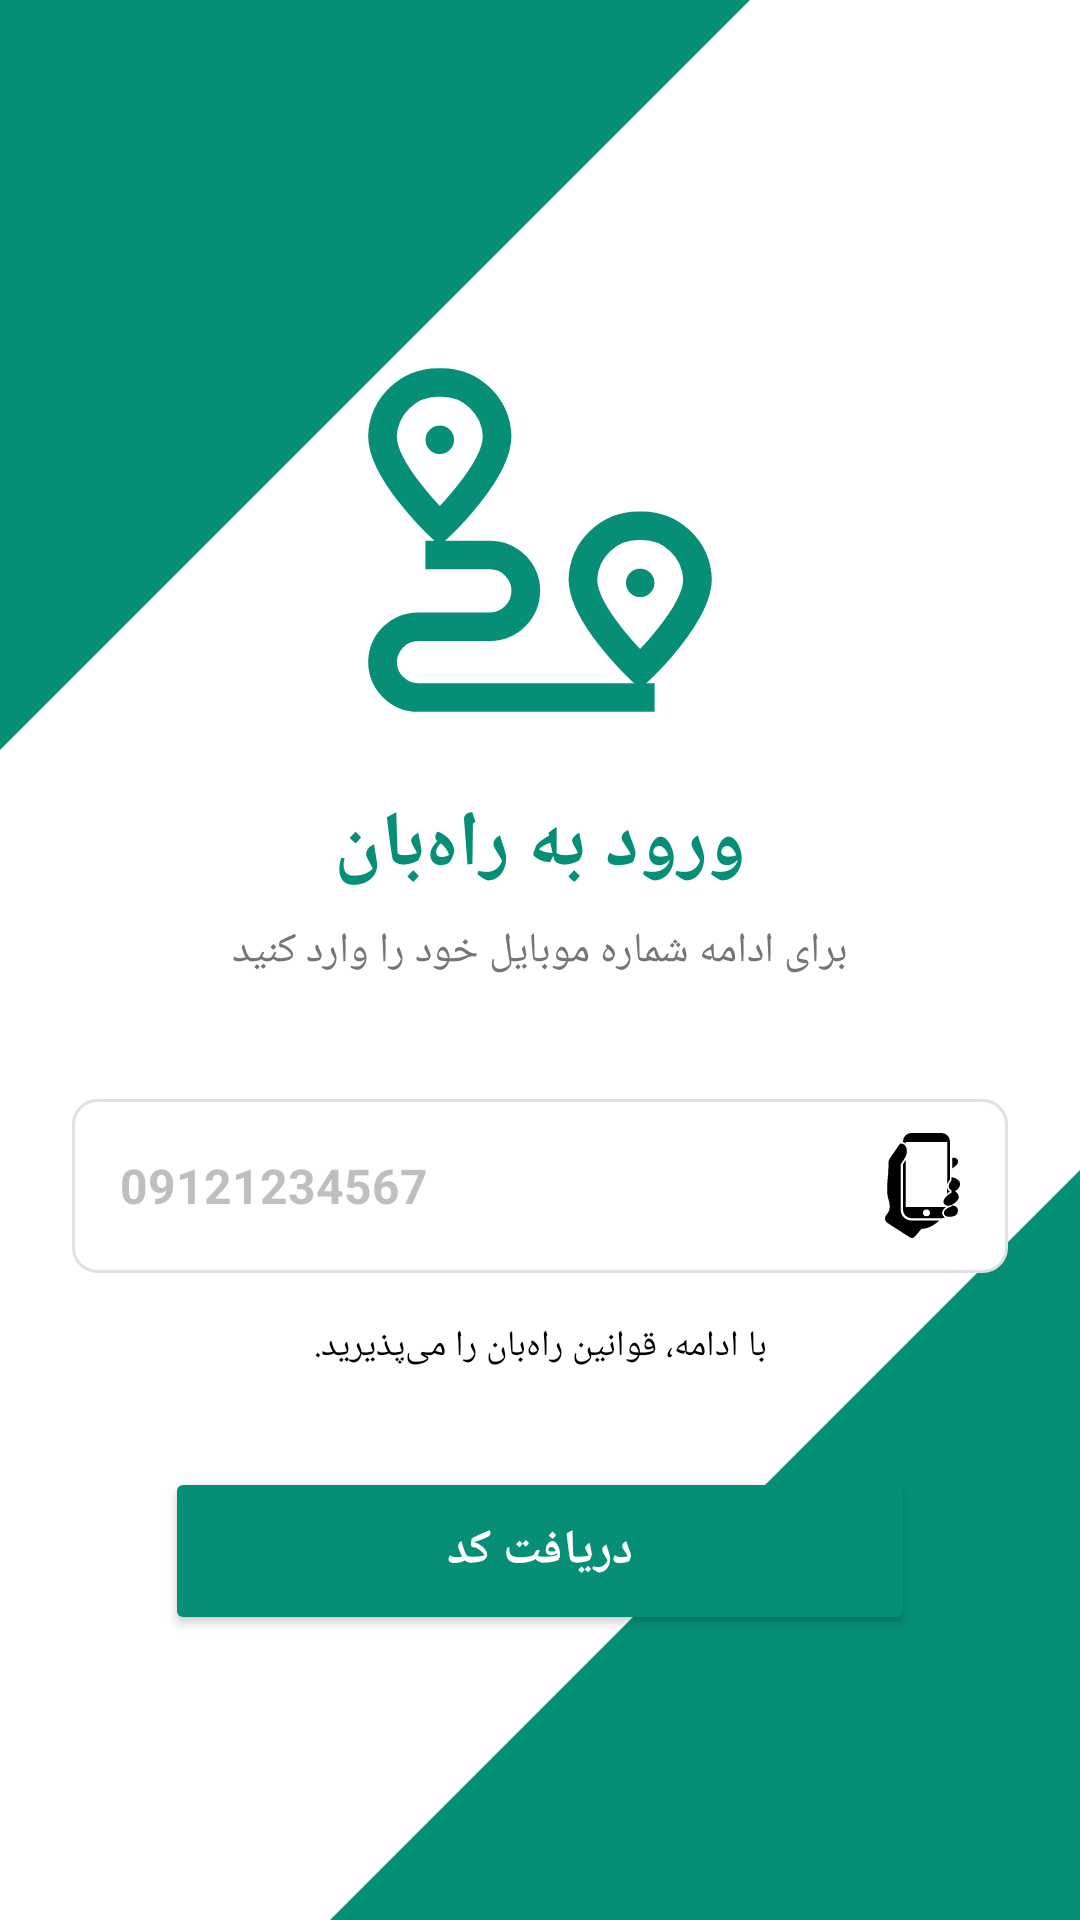

Screen size 1080w x 1920h. Icon name, then its box in pixels as (x1, y1, x2, y2):
route: (368, 368, 712, 712)
